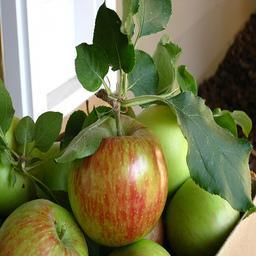apple: (67, 118, 170, 248), (168, 174, 241, 256), (1, 200, 87, 256)
